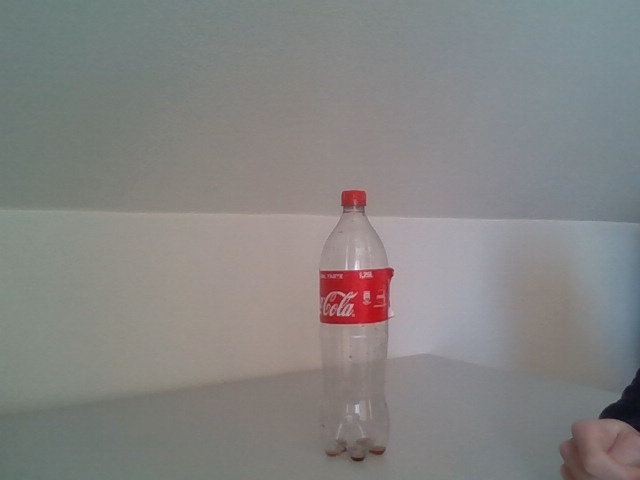bottle: (318, 190, 391, 461)
